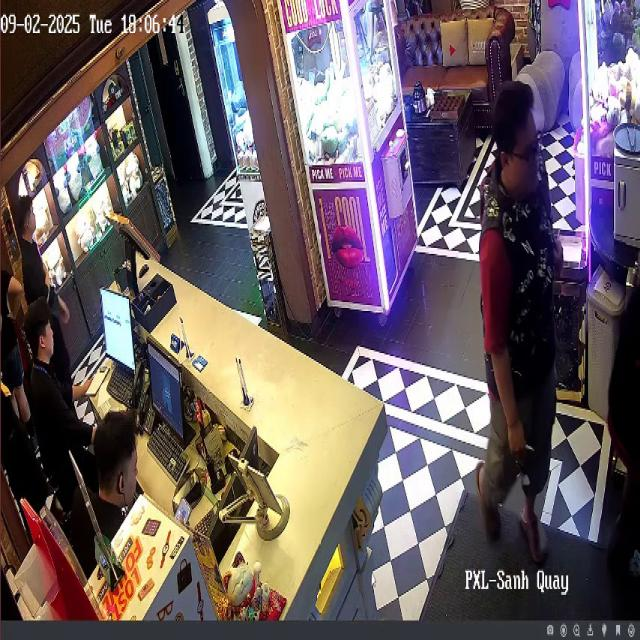khach: (470, 88, 570, 577)
nhan vien: (22, 288, 86, 565), (16, 197, 94, 416), (85, 382, 143, 599), (0, 235, 30, 467)
